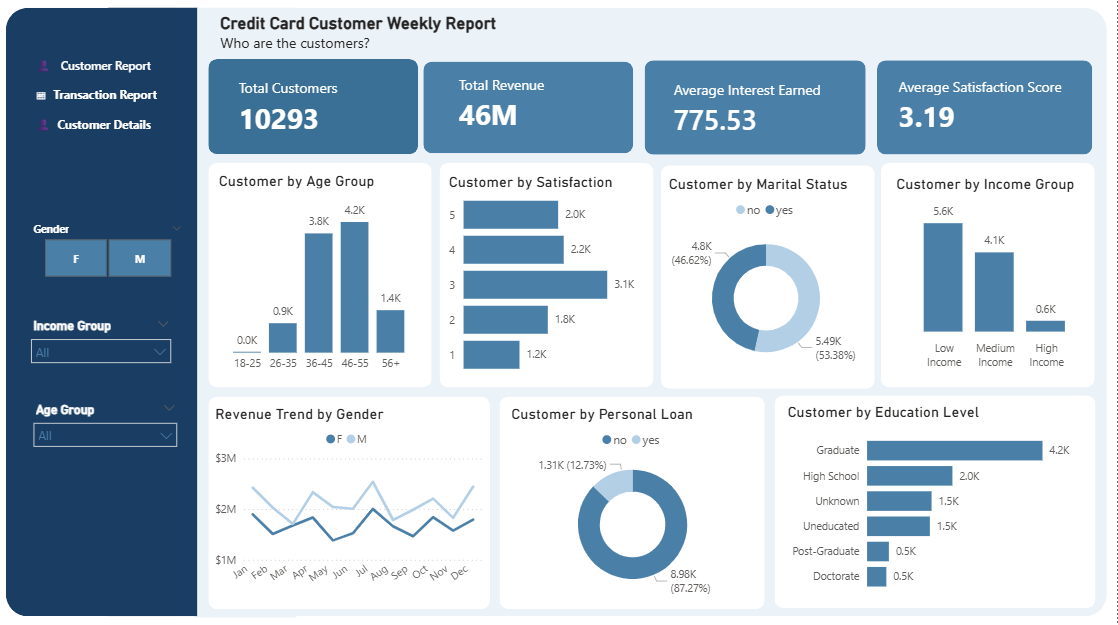

What the dashboard file says about the page in this screenshot:
{"tool":"powerbi","page":{"name":"👤   Customer Report ","canvas":[1280,720],"ordinal":0},"visuals":[{"type":"group","id":"g1","title":"Background ","box":[10,11.4,1258.6,697.1],"z":0},{"type":"shape","box":[10,11.4,217.7,695.5],"z":0,"group":"g3"},{"type":"group","id":"g2","title":"Right Background","box":[225.4,11.6,1043.1,696.9],"z":0,"group":"g1"},{"type":"shape","box":[248.7,11.9,1019.8,695.5],"z":0,"group":"g2"},{"type":"shape","box":[241.4,71.4,320,110],"z":0,"group":"g7"},{"type":"shape","box":[575.3,72.9,334.3,110],"z":0,"group":"g6"},{"type":"shape","box":[924.3,72.9,334.3,110],"z":0,"group":"g5"},{"type":"slicer","fields":{"Values":["customer.Gender"]},"box":[28.6,250,194.3,74.3],"z":0,"group":"g4"},{"type":"group","id":"g3","title":"Left Background","box":[10,11.4,219.1,695.5],"z":1000,"group":"g1"},{"type":"shape","box":[127.4,11.4,101.7,695.5],"z":1000,"group":"g3"},{"type":"shape","box":[225.4,11.6,116,696.9],"z":1000,"group":"g2"},{"type":"cardVisual","title":"Total Customer","fields":{"Data":["customer.Total Customers"]},"box":[249.6,77.1,205.1,100],"z":1000,"group":"g7"},{"type":"cardVisual","fields":{"Data":["customer.Average Satisfaction Score"]},"box":[938.6,77.2,245.7,100],"z":1000,"group":"g5"},{"type":"cardVisual","title":"Average Revenue","fields":{"Data":["customer.Avearge Income"]},"box":[579.8,78.8,242.9,100],"z":1000,"group":"g6"},{"type":"group","id":"g4","title":"Slicer","box":[28.6,250,194.3,268.6],"z":1000},{"type":"slicer","fields":{"Values":["customer.Income Group"]},"box":[28.6,360,180,62.9],"z":1000,"group":"g4"},{"type":"textbox","box":[250,11.4,408.6,67.1],"z":2000},{"type":"image","box":[829.6,88.6,60,40],"z":2000,"group":"g6"},{"type":"image","box":[488.9,90,57.4,40],"z":2000,"group":"g7"},{"type":"image","box":[1174.3,90,70,42],"z":2000,"group":"g5"},{"type":"slicer","fields":{"Values":["customer.Age Group"]},"box":[31.5,455.7,184.3,62.9],"z":2000,"group":"g4"},{"type":"pageNavigator","box":[28.6,60,187.1,100],"z":3000},{"type":"shape","box":[241.4,455.7,334.3,244.3],"z":4000},{"type":"shape","box":[241.4,191.4,251.4,255.7],"z":5000},{"type":"shape","box":[1018.6,191.4,238.6,255.7],"z":6000},{"type":"shape","box":[585.7,455.7,298.6,244.3],"z":7000},{"type":"shape","box":[897.4,454.5,359.2,243.8],"z":8000},{"type":"shape","box":[501.4,191.4,241.4,255.7],"z":9000},{"type":"shape","box":[751.4,191.4,258.6,255.7],"z":10000},{"type":"donutChart","title":"Gender Distribution","fields":{"Category":["customer.Gender"],"Y":["CountNonNull(customer.Client_Number)"]},"box":[244.3,197.1,245.7,241.4],"z":11000},{"type":"clusteredColumnChart","title":"Customer by Age Group","fields":{"Y":["CountNonNull(customer.Client_Number)"],"Category":["customer.Age Group"]},"box":[251.4,465.7,310,227.1],"z":12000},{"type":"clusteredColumnChart","title":"Customer by Income Group","fields":{"Y":["CountNonNull(customer.Client_Number)"],"Category":["customer.Income Group"]},"box":[1020,197.1,234.3,247.1],"z":13000},{"type":"clusteredBarChart","title":"Customer by Education Level","fields":{"Y":["CountNonNull(customer.Client_Number)"],"Category":["customer.Education_Level"]},"box":[910,462.9,334.3,227.1],"z":14000},{"type":"clusteredBarChart","title":"Customer by Satisfaction","fields":{"Category":["customer.Customer_Satisfaction_Score"],"Y":["CountNonNull(customer.Client_Number)"]},"box":[504.3,200,238.6,237.1],"z":15000},{"type":"donutChart","title":"Customer by Personal Loan","fields":{"Category":["customer.Personal_loan"],"Y":["CountNonNull(customer.Client_Number)"]},"box":[592.9,464.3,285.7,225.7],"z":16000},{"type":"donutChart","title":"Customer by Marital Status","fields":{"Category":["customer.House_Owner"],"Y":["CountNonNull(customer.Client_Number)"]},"box":[757.1,197.1,255.7,235.7],"z":17000},{"type":"group","id":"g5","title":"Card 3","box":[924.3,72.9,334.3,110],"z":18000},{"type":"group","id":"g6","title":"Card 2","box":[575.3,72.9,334.3,110],"z":19000},{"type":"group","id":"g7","title":"Card 1","box":[241.4,71.4,320,110],"z":20000}]}

Visuals, with their boxes in screenshot pixels (x1, y1, x2, y2), scaled from the page's 1280x720 canvas onto the 1118x625 screenshot:
"Background " group: <box>9,10,1108,615</box>
shape: <box>9,10,199,614</box>
"Right Background" group: <box>197,10,1108,615</box>
shape: <box>217,10,1108,614</box>
shape: <box>211,62,490,157</box>
shape: <box>502,63,794,159</box>
shape: <box>807,63,1099,159</box>
slicer - customer.Gender: <box>25,217,195,282</box>
"Left Background" group: <box>9,10,200,614</box>
shape: <box>111,10,200,614</box>
shape: <box>197,10,298,615</box>
"Total Customer" cardVisual: <box>218,67,397,154</box>
cardVisual - customer.Average Satisfaction Score: <box>820,67,1034,154</box>
"Average Revenue" cardVisual: <box>506,68,719,155</box>
"Slicer" group: <box>25,217,195,450</box>
slicer - customer.Income Group: <box>25,312,182,367</box>
textbox: <box>218,10,575,68</box>
image: <box>725,77,777,112</box>
image: <box>427,78,477,113</box>
image: <box>1026,78,1087,115</box>
slicer - customer.Age Group: <box>28,396,188,450</box>
pageNavigator: <box>25,52,188,139</box>
shape: <box>211,396,503,608</box>
shape: <box>211,166,430,388</box>
shape: <box>890,166,1098,388</box>
shape: <box>512,396,772,608</box>
shape: <box>784,395,1098,606</box>
shape: <box>438,166,649,388</box>
shape: <box>656,166,882,388</box>
"Gender Distribution" donutChart: <box>213,171,428,381</box>
"Customer by Age Group" clusteredColumnChart: <box>220,404,490,601</box>
"Customer by Income Group" clusteredColumnChart: <box>891,171,1096,386</box>
"Customer by Education Level" clusteredBarChart: <box>795,402,1087,599</box>
"Customer by Satisfaction" clusteredBarChart: <box>440,174,649,379</box>
"Customer by Personal Loan" donutChart: <box>518,403,767,599</box>
"Customer by Marital Status" donutChart: <box>661,171,885,376</box>
"Card 3" group: <box>807,63,1099,159</box>
"Card 2" group: <box>502,63,794,159</box>
"Card 1" group: <box>211,62,490,157</box>
